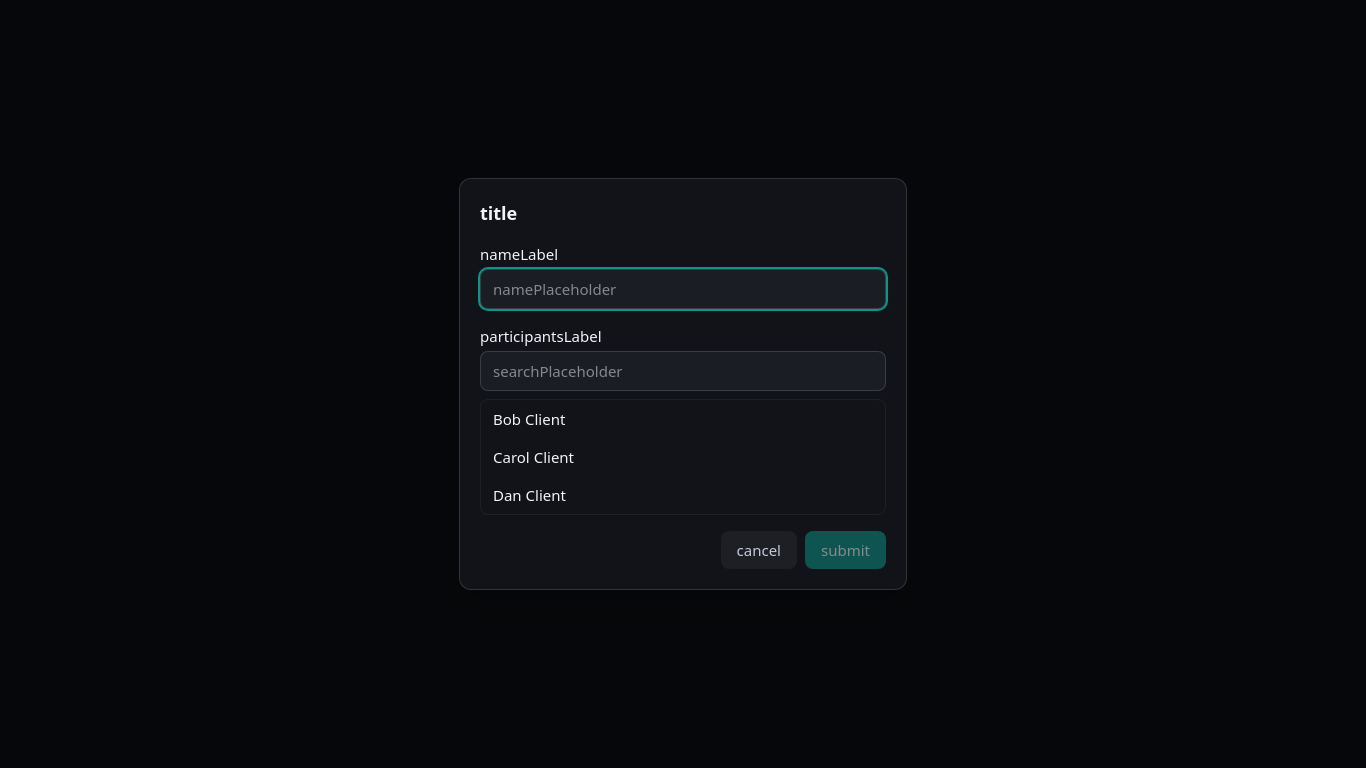
Test: NewGroupModal › désactive la création tant que nom + 2 participants ne sont pas fournis
The image size is (1366, 768).
Expected: the button "submit" is disabled, x1=805 y1=531 x2=886 y2=569
Type "Mon groupe" into the field labelled "nameLabel" at x=683, y=289, box x1=480 y1=269 x2=886 y2=309
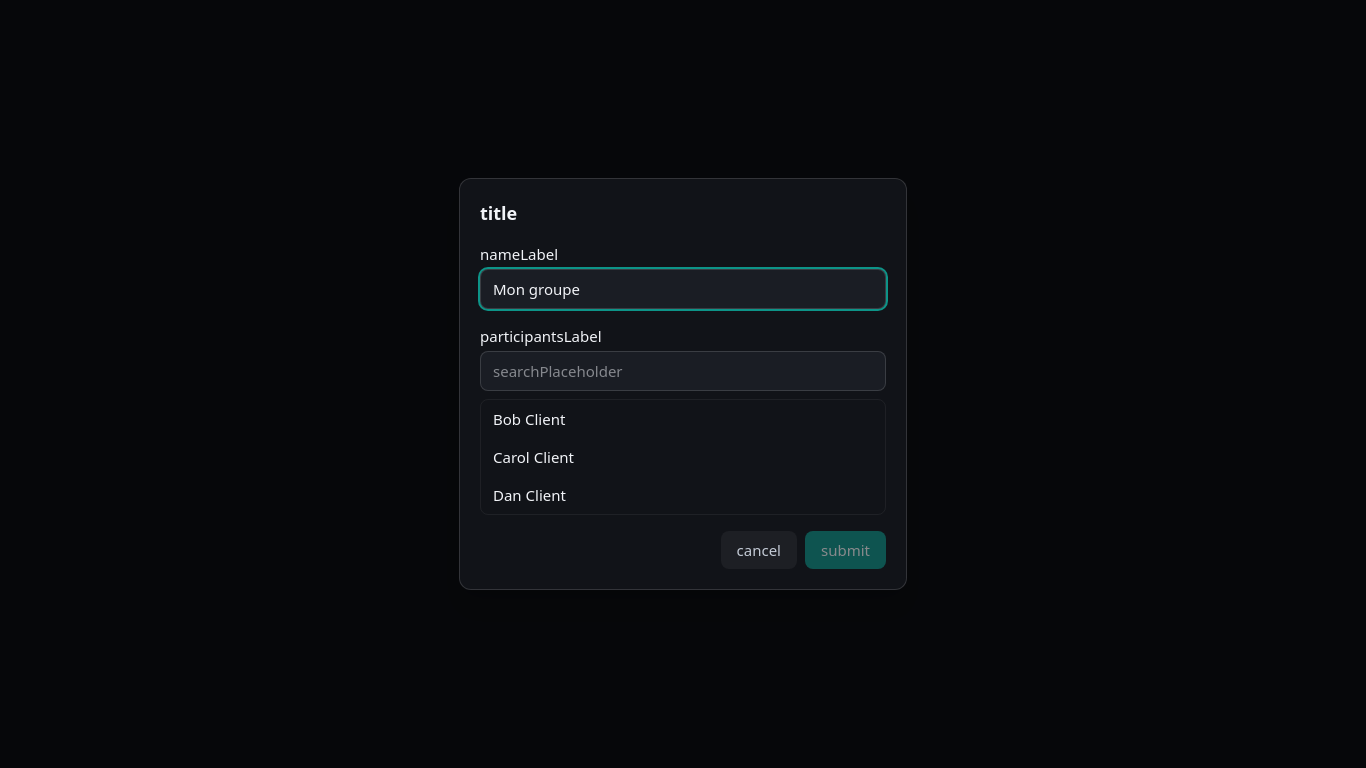
Expected: the button "submit" is disabled, x1=805 y1=531 x2=886 y2=569
Click the button "Bob Client" at x=545, y=419, box x1=481 y1=400 x2=885 y2=438
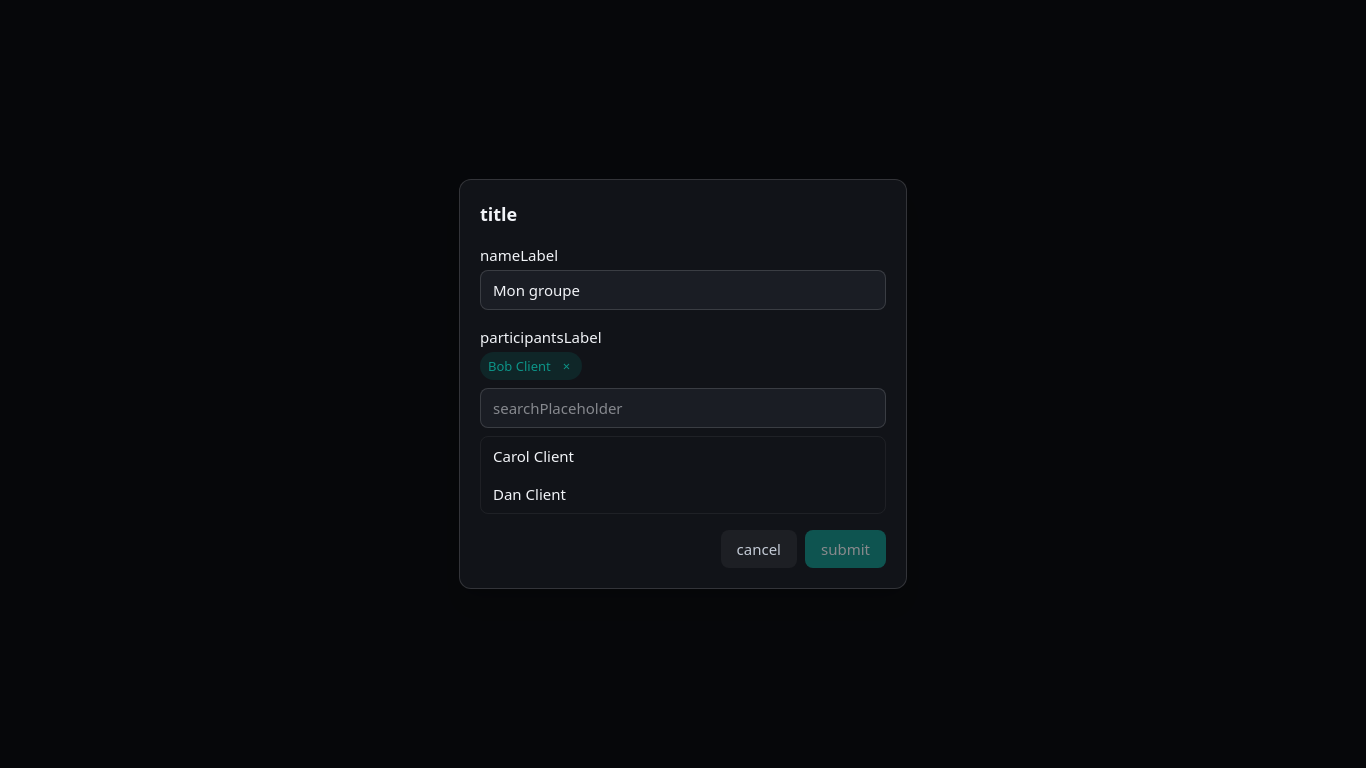
Expected: the button "submit" is disabled, x1=805 y1=530 x2=886 y2=568
Click the button "Carol Client" at x=511, y=456, box x1=481 y1=437 x2=885 y2=475
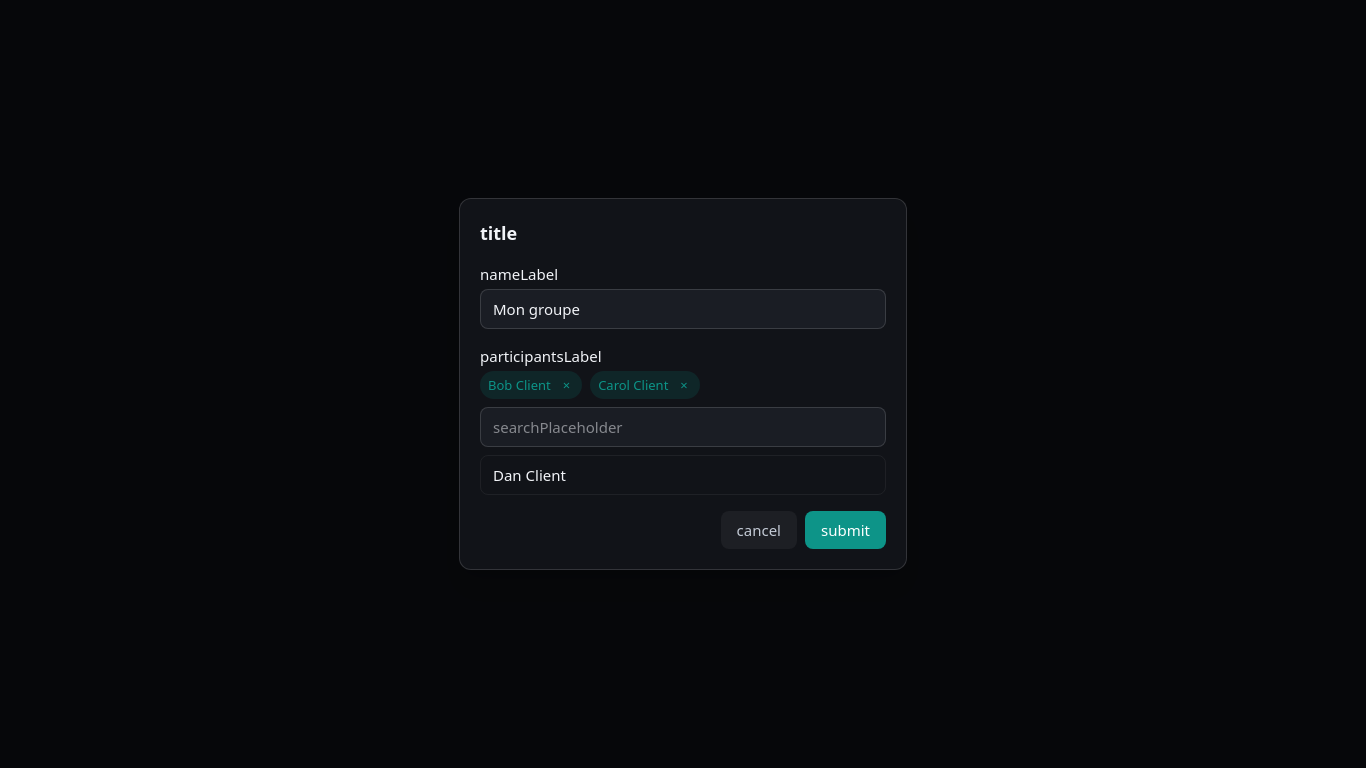
Result: the button "submit" is enabled at x1=805 y1=511 x2=886 y2=549
